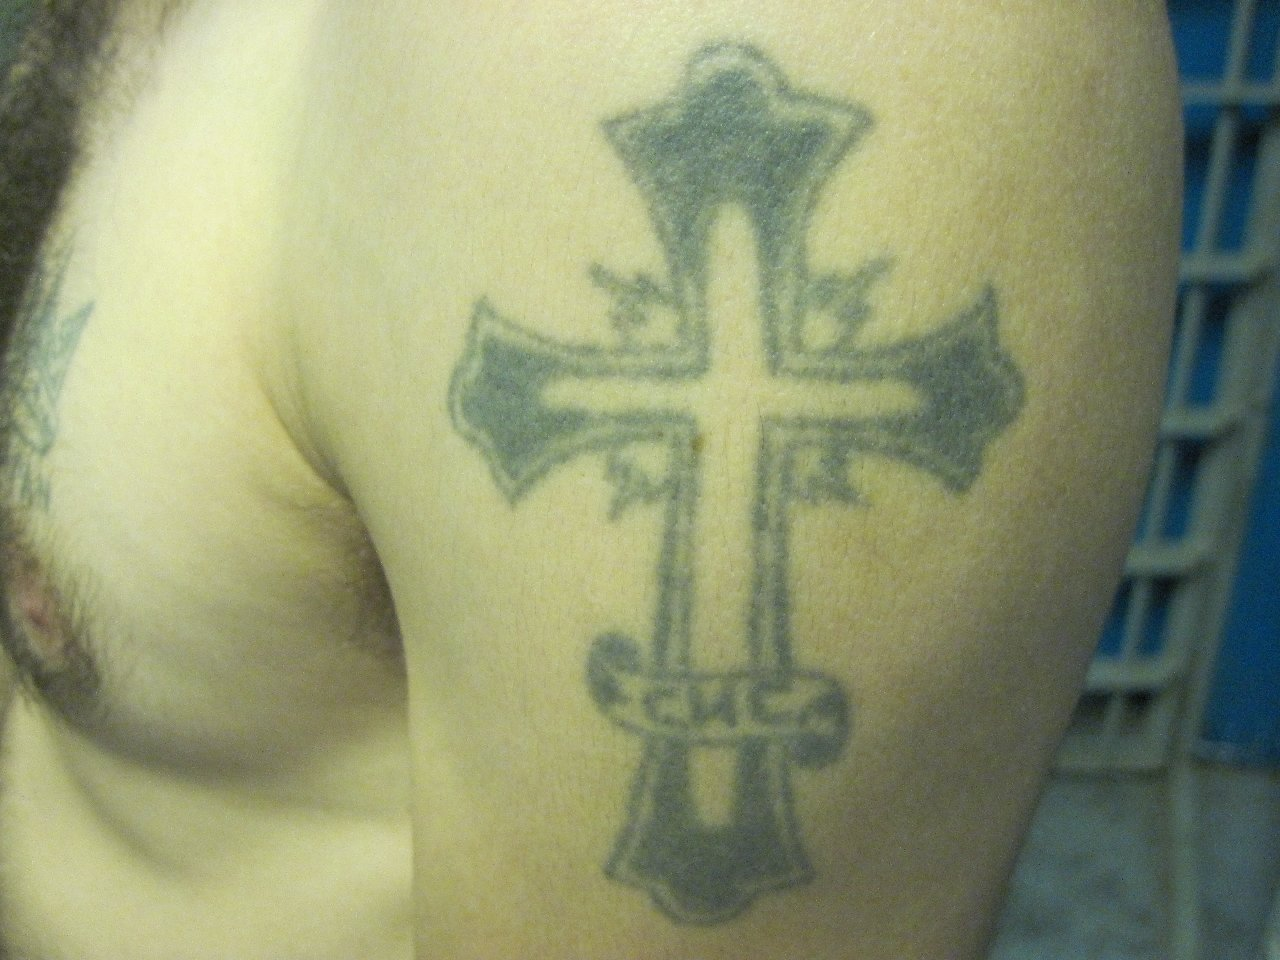tatu9_krest: (420, 27, 1033, 943)
